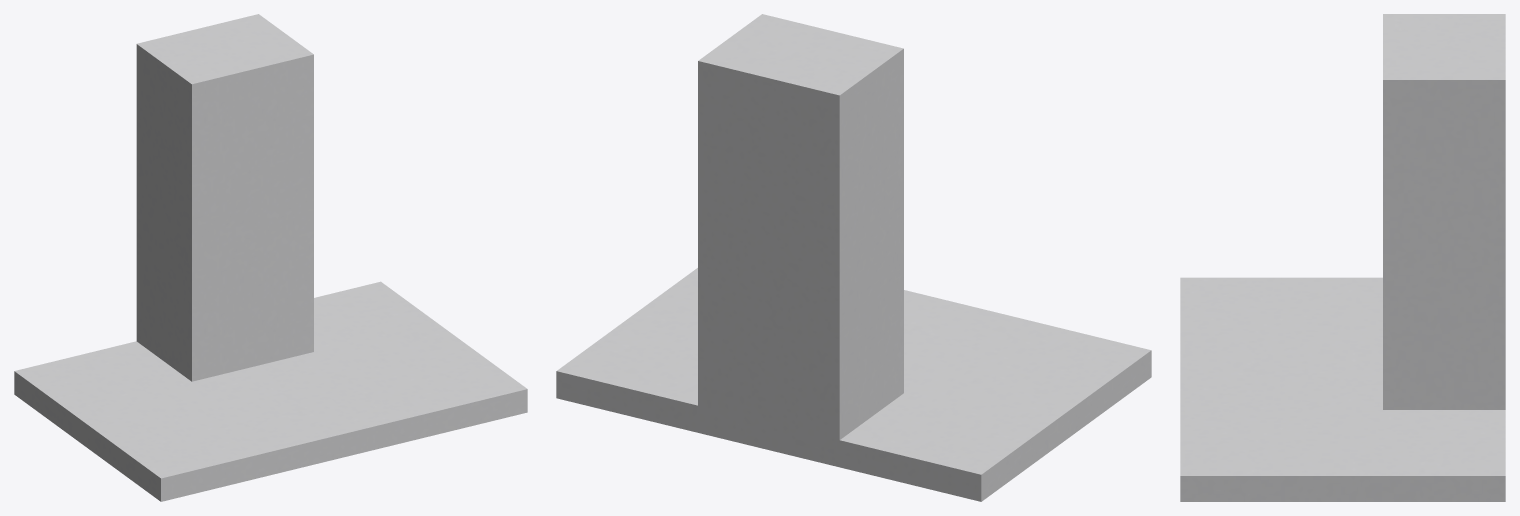
The model's file is KitchenExhaust02.fbx.
3 views of the same model, side by side, from view 1: azimuth 30°, elevation 25°; view 2: azimuth 150°, elevation 25°; view 3: azimuth 270°, elevation 25° (orthographic). The views are drawn at different scales.
Parts seen in each view (by area): view 1: KitchenExhaust02; view 2: KitchenExhaust02; view 3: KitchenExhaust02.
Part boxes in pixels (left/top/right/bottom): KitchenExhaust02: left=14, top=14, right=527, bottom=501; KitchenExhaust02: left=556, top=14, right=1151, bottom=501; KitchenExhaust02: left=1180, top=14, right=1505, bottom=501.
Size of the model in its own units: 55.45 by 46.38 by 38.45.
